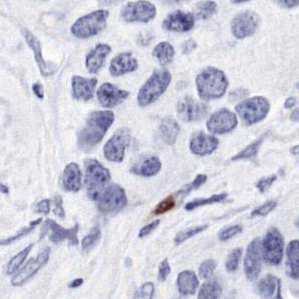Lymphocyte: (154, 196, 176, 215)
